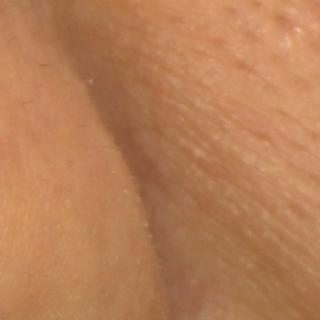2: (166, 10, 186, 29), (270, 50, 288, 67), (308, 37, 320, 57), (309, 0, 320, 15)
Pores: (276, 14, 301, 39), (282, 198, 305, 219), (296, 75, 316, 96), (235, 58, 257, 77), (254, 129, 275, 148), (262, 80, 284, 97), (244, 27, 264, 45), (223, 4, 242, 22), (274, 106, 294, 122), (289, 138, 307, 155), (303, 169, 320, 186), (211, 35, 229, 50), (307, 126, 320, 145), (249, 0, 267, 13), (5, 33, 20, 47), (65, 154, 79, 168), (19, 98, 33, 111), (37, 59, 50, 73), (76, 118, 90, 130)
